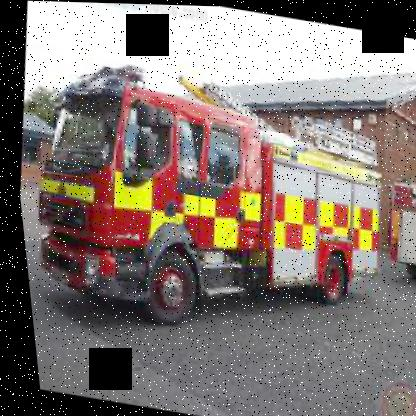emergency: (11, 43, 415, 349)
